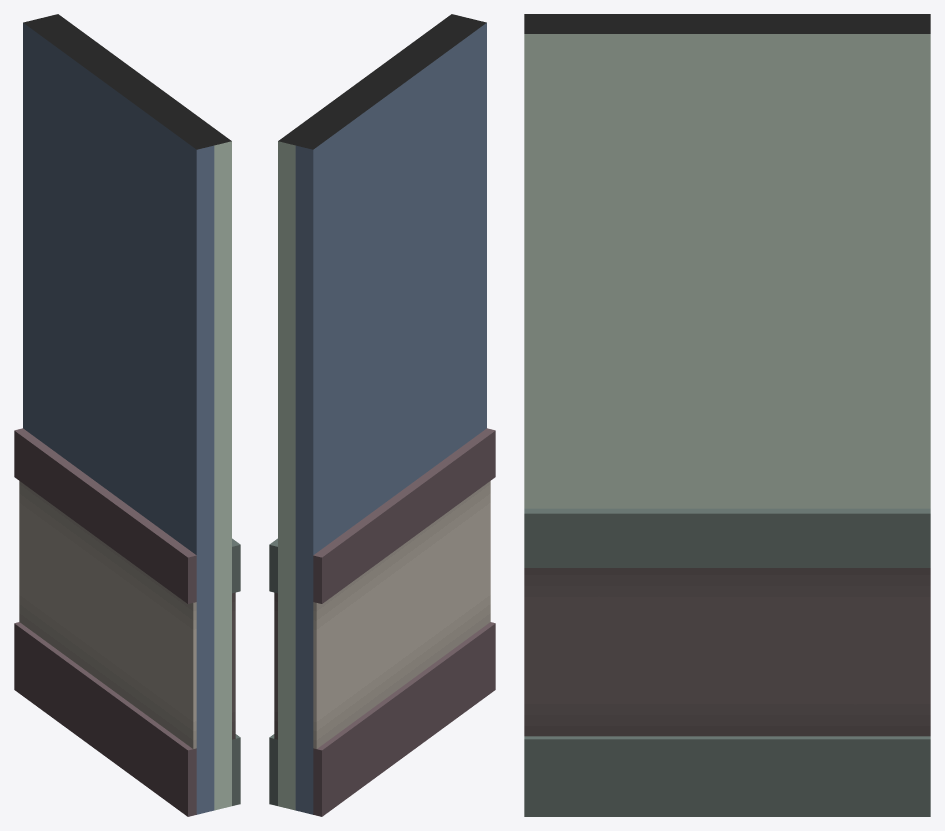
Rendered from mesh_doublewall_straight.glb.
The picture shows the model from 3 angles, left to right: view 1: azimuth 30°, elevation 25°; view 2: azimuth 150°, elevation 25°; view 3: azimuth 270°, elevation 25°; orthographic projection. The views are drawn at different scales.
Parts seen in each view (by area): view 1: mesh_doublewall_straight_mat_wall_inside_1_0, mesh_doublewall_straight_mat_wall_inside_2_0; view 2: mesh_doublewall_straight_mat_wall_inside_1_0, mesh_doublewall_straight_mat_wall_inside_2_0; view 3: mesh_doublewall_straight_mat_wall_inside_2_0.
Part boxes in pixels (box(x1,y1,x2,y2)): mesh_doublewall_straight_mat_wall_inside_1_0: box(14, 23, 214, 816); mesh_doublewall_straight_mat_wall_inside_2_0: box(23, 14, 240, 810); mesh_doublewall_straight_mat_wall_inside_1_0: box(295, 23, 495, 816); mesh_doublewall_straight_mat_wall_inside_2_0: box(269, 14, 486, 810); mesh_doublewall_straight_mat_wall_inside_2_0: box(524, 14, 930, 816).
Size of the model in its own units: 0.2881 by 3.46 by 1.64.
Materials: 2 (2 with a texture image).
